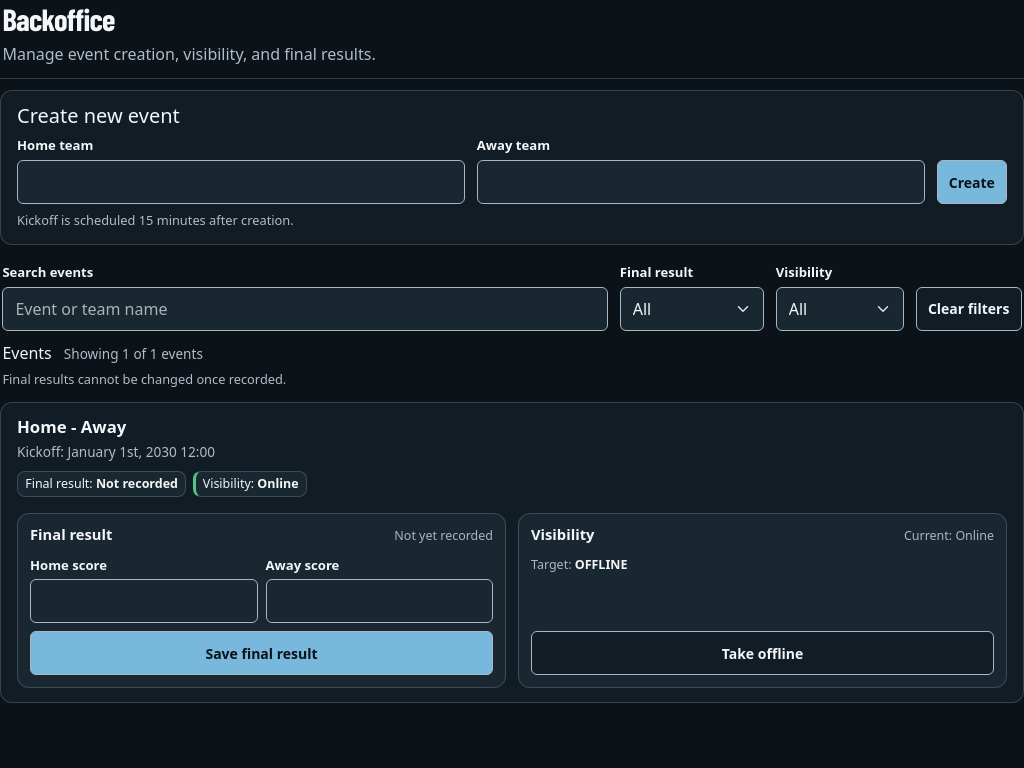
Test: public Backoffice access › submits numeric results through labelled controls
The image size is (1024, 768).
Expected: the heading "Home - Away" is shown, [17,415,126,438]
Type "3" into the number field labelled "Home score". click: (144, 602)
box: [30,580,258,624]
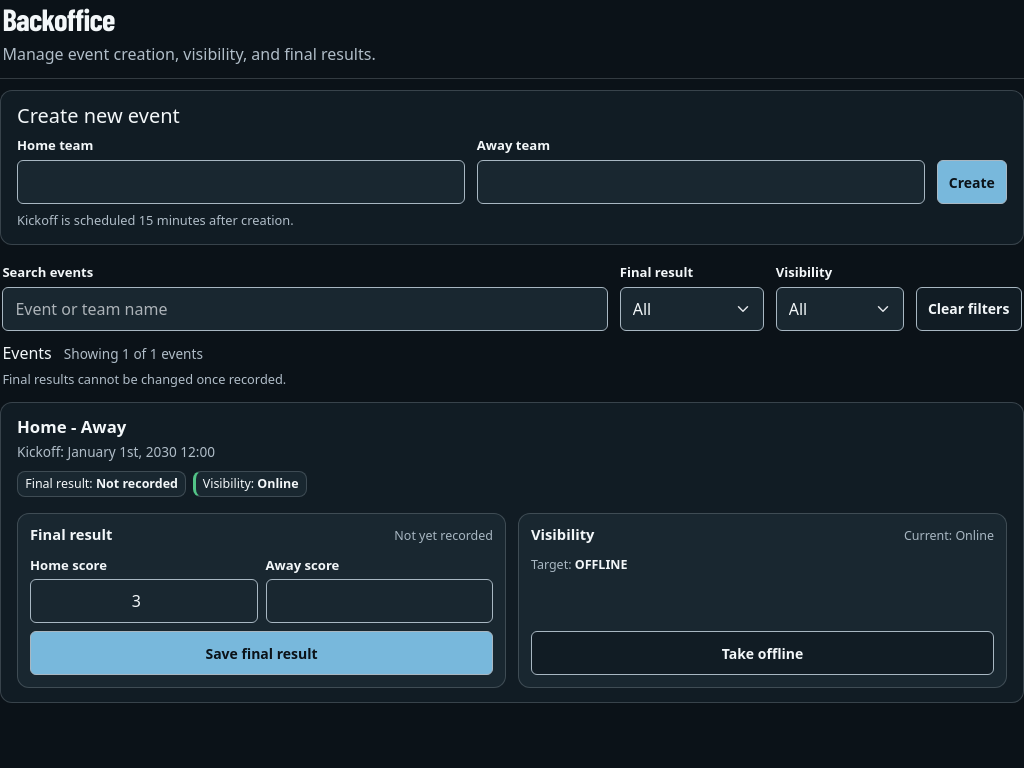
Type "1" into the number field labelled "Away score". click: (379, 602)
box: [266,580,493,624]
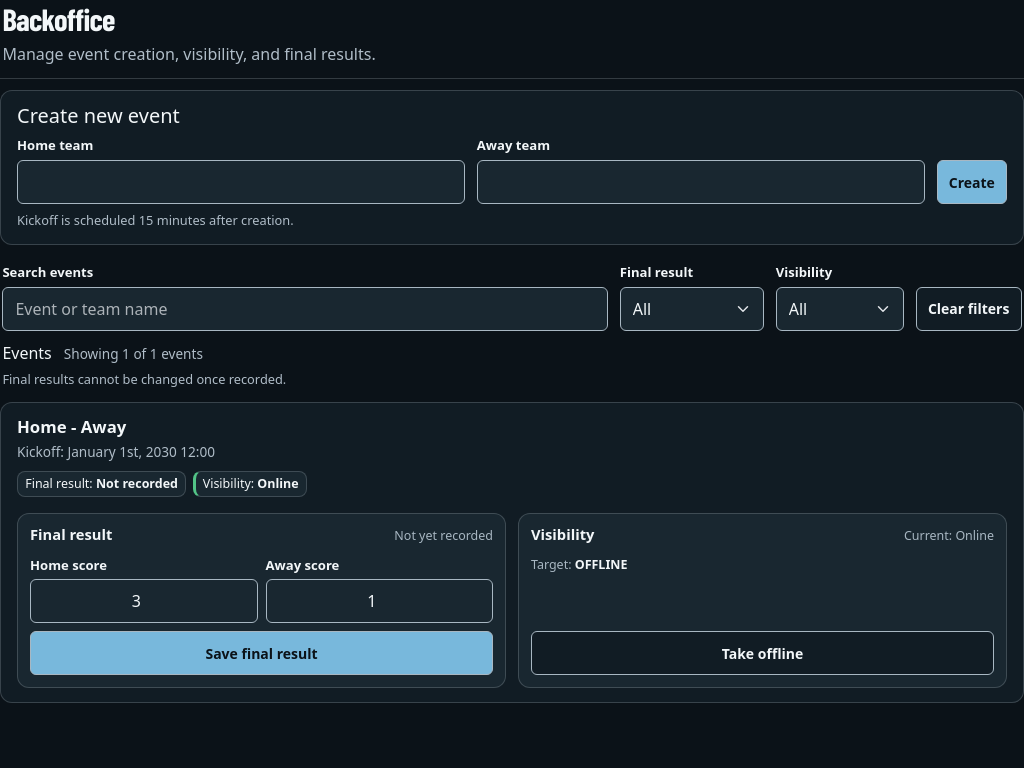
Click the button with aria-label "Save final result for Home - Away". click: (262, 654)
box: [30,632,493,676]
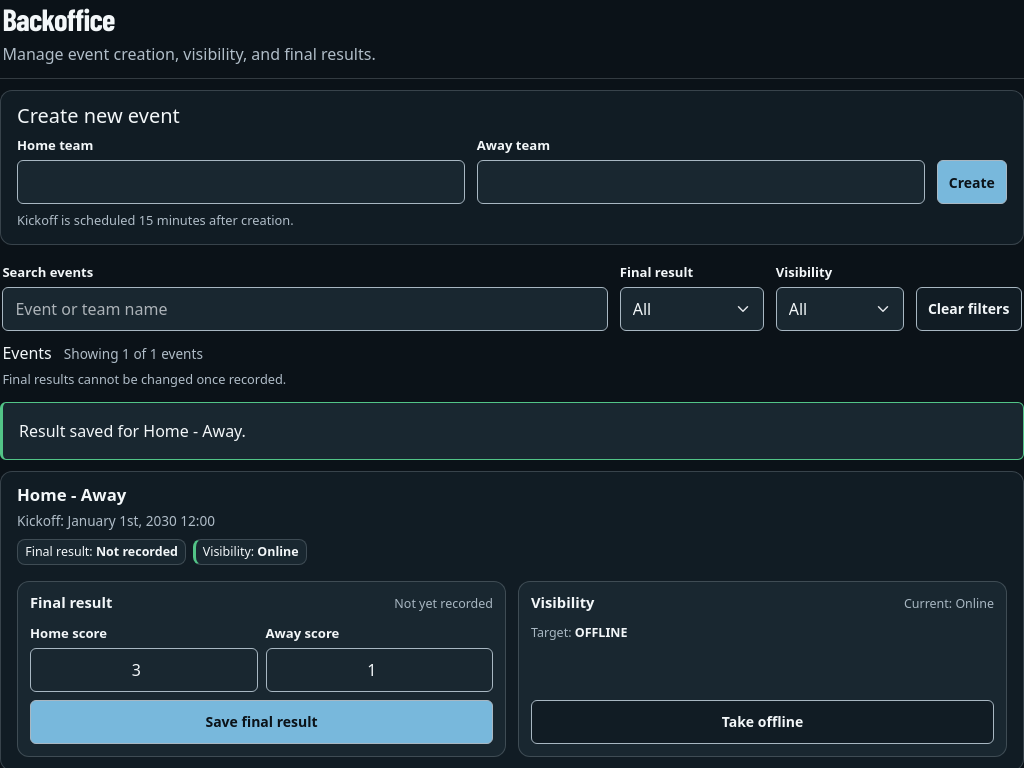
Expected: the message reads "Result saved for Home - Away.", [19,420,246,442]
